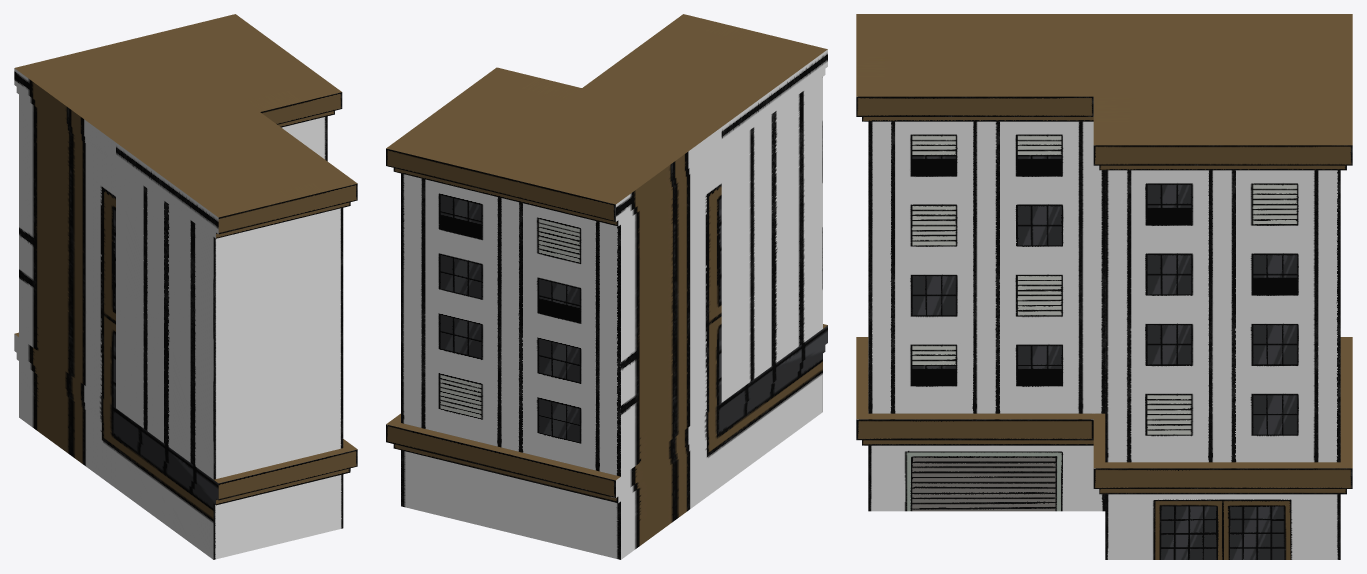
The model's file is predio_1_v2.glb.
The picture shows the model from 3 angles, left to right: view 1: azimuth 30°, elevation 25°; view 2: azimuth 150°, elevation 25°; view 3: azimuth 270°, elevation 25°; orthographic projection. The views are drawn at different scales.
Visible parts, largest first — view 1: Cube; view 2: Cube; view 3: Cube.
Part boxes in pixels (x1,y1,x2,y2): Cube: [14, 14, 357, 559]; Cube: [386, 14, 827, 559]; Cube: [856, 14, 1352, 559].
Bounding box in the file's own units: 2.09 × 3.12 × 3.34.
1 material, 1 textured.
